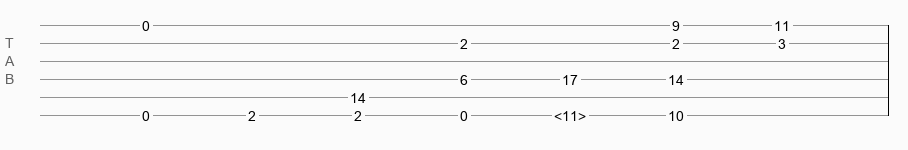0: (142, 18, 150, 28), (142, 108, 150, 118), (460, 108, 468, 118)
10: (668, 108, 684, 118)
11: (774, 18, 790, 28)
14: (350, 90, 366, 100), (668, 72, 684, 82)
17: (562, 72, 578, 82)
2: (248, 108, 256, 118), (354, 108, 362, 118), (460, 36, 468, 46), (672, 36, 680, 46)
3: (778, 36, 786, 46)
6: (460, 72, 468, 82)
9: (672, 18, 680, 28)
harmonic: (554, 108, 586, 118)
